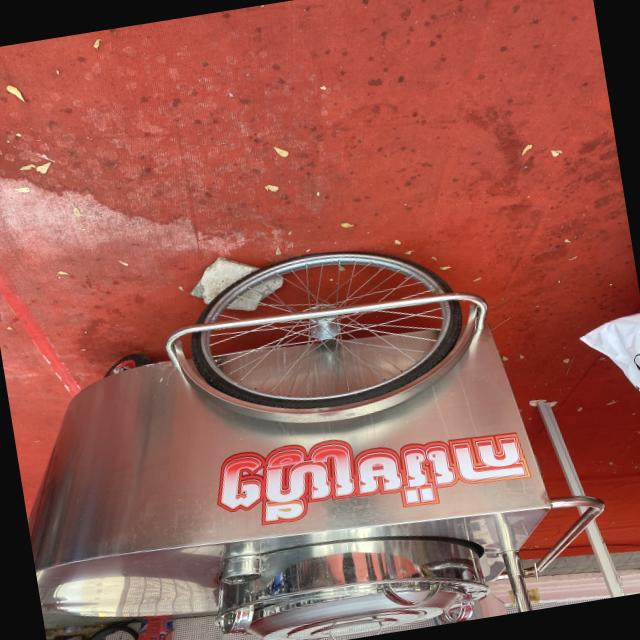Yolov11kh: (213, 417, 542, 535)
